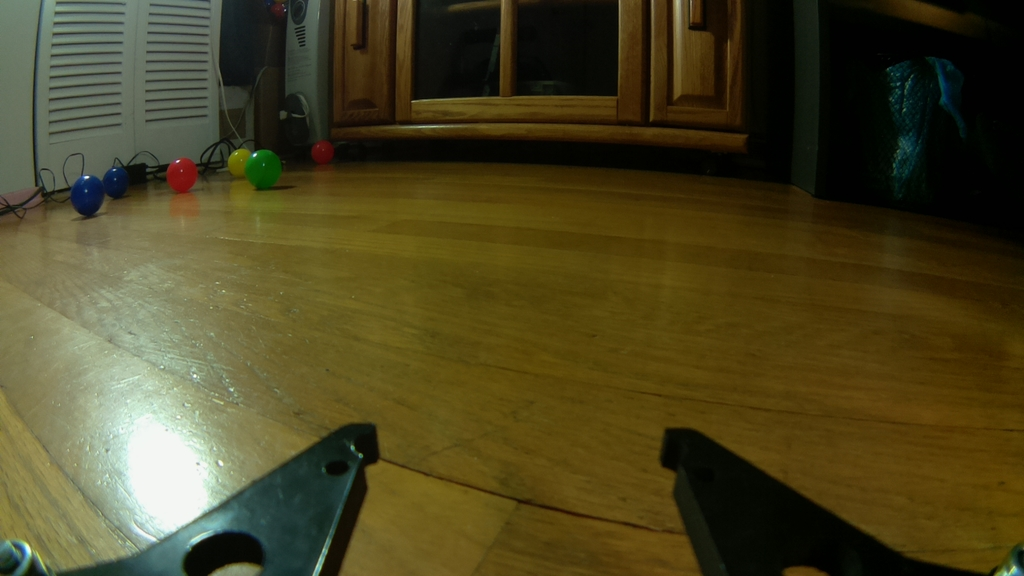ball: (308, 138, 333, 164)
